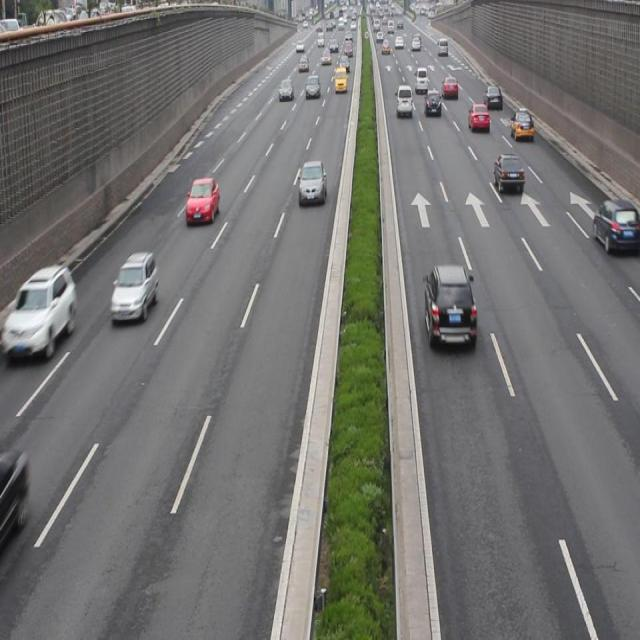car: (1, 263, 77, 360), (424, 264, 476, 348), (108, 249, 158, 325), (1, 445, 30, 545), (590, 196, 640, 253), (185, 175, 220, 228), (493, 152, 524, 196), (298, 160, 326, 206), (466, 99, 491, 134), (510, 110, 535, 142)
